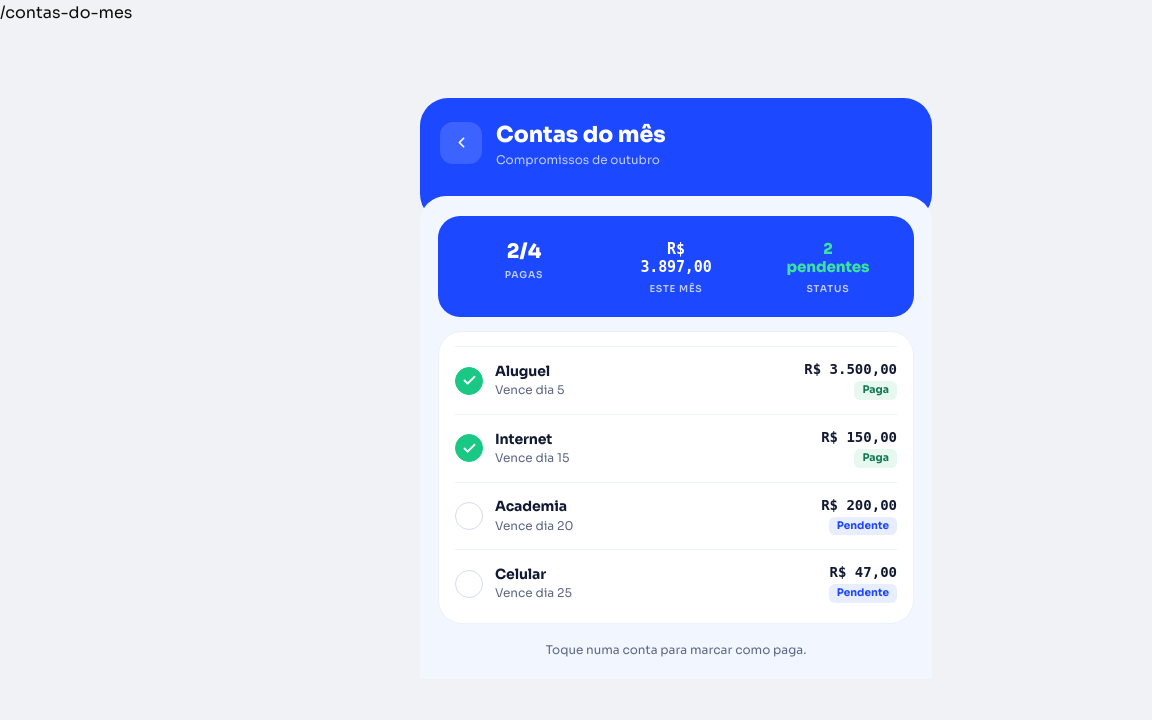
it: Contas do mês — marcar como paga › cancelar a confirmação não paga nada
Click the button with aria-label "academia, pendente" at (531, 506), box [455, 483, 897, 549]
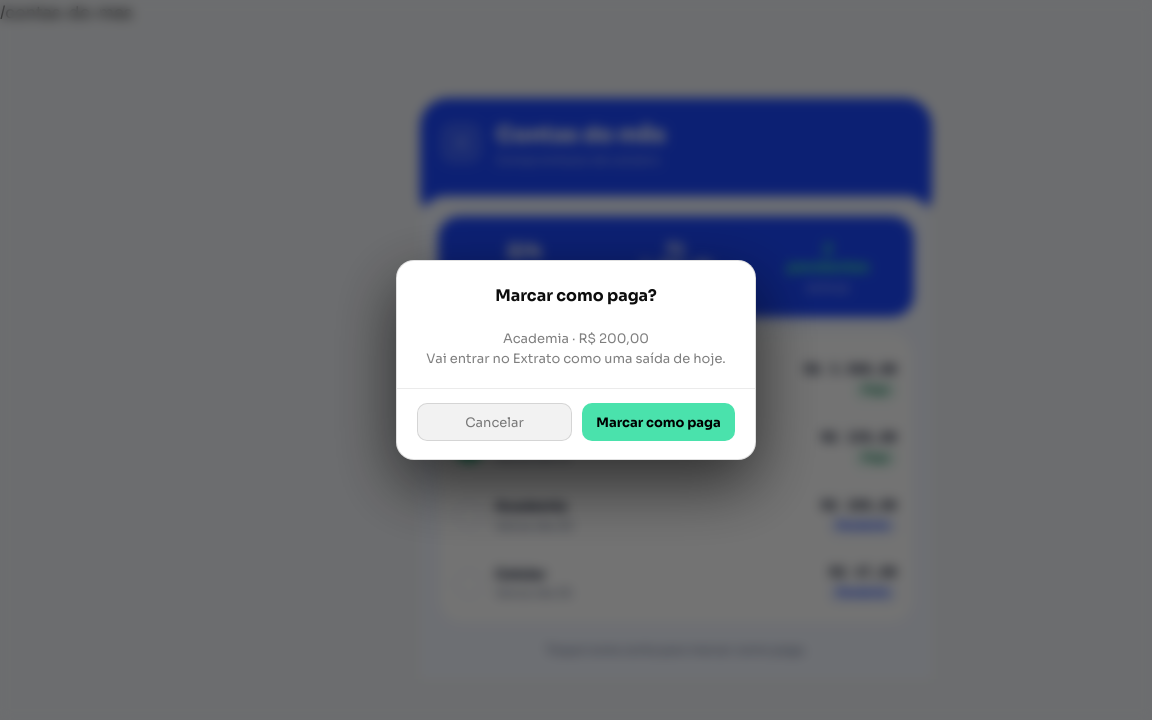
Click the button "Cancelar" at (494, 422), box [417, 403, 572, 441]
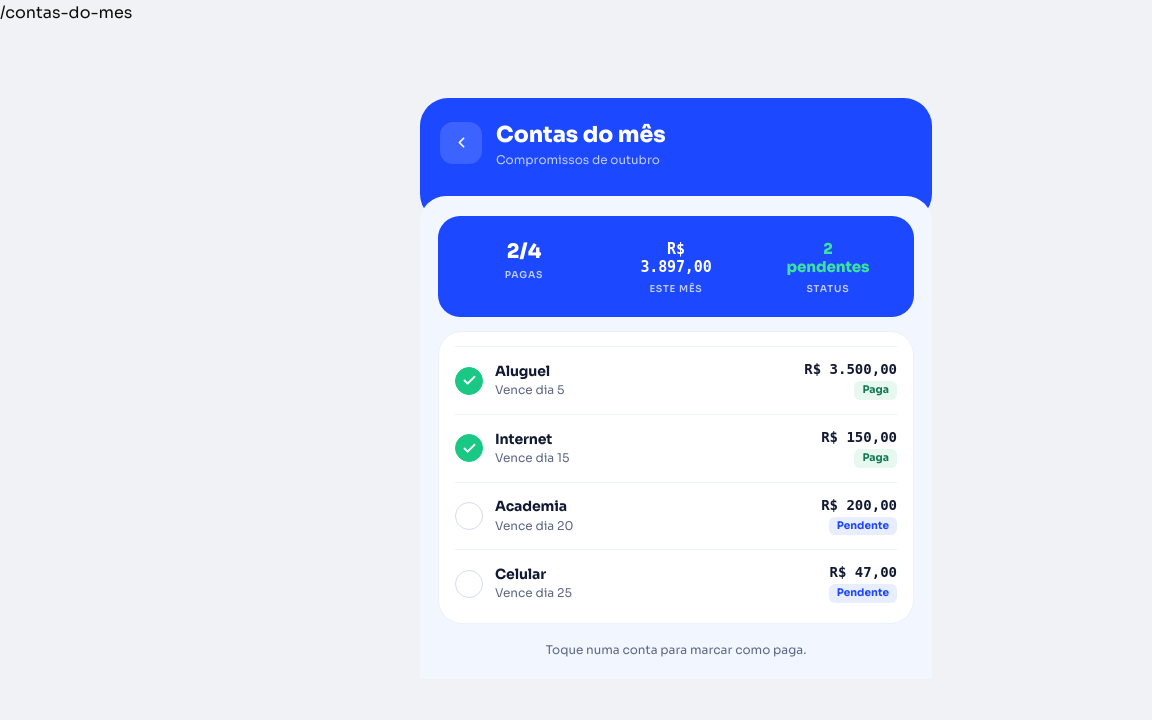
Expected: the dialog is gone
